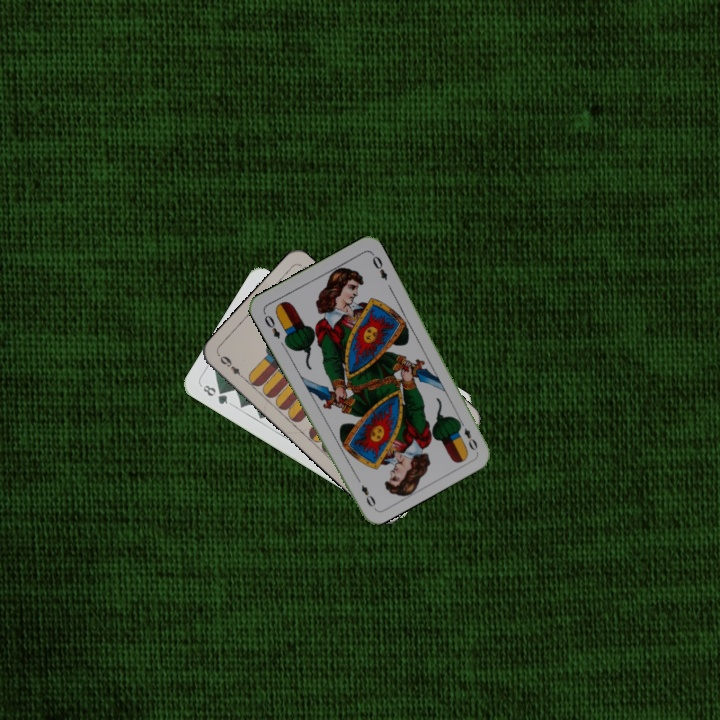E9: (215, 351, 248, 382)
EO: (454, 416, 480, 453), (259, 308, 283, 341)
G8: (199, 381, 230, 407)
